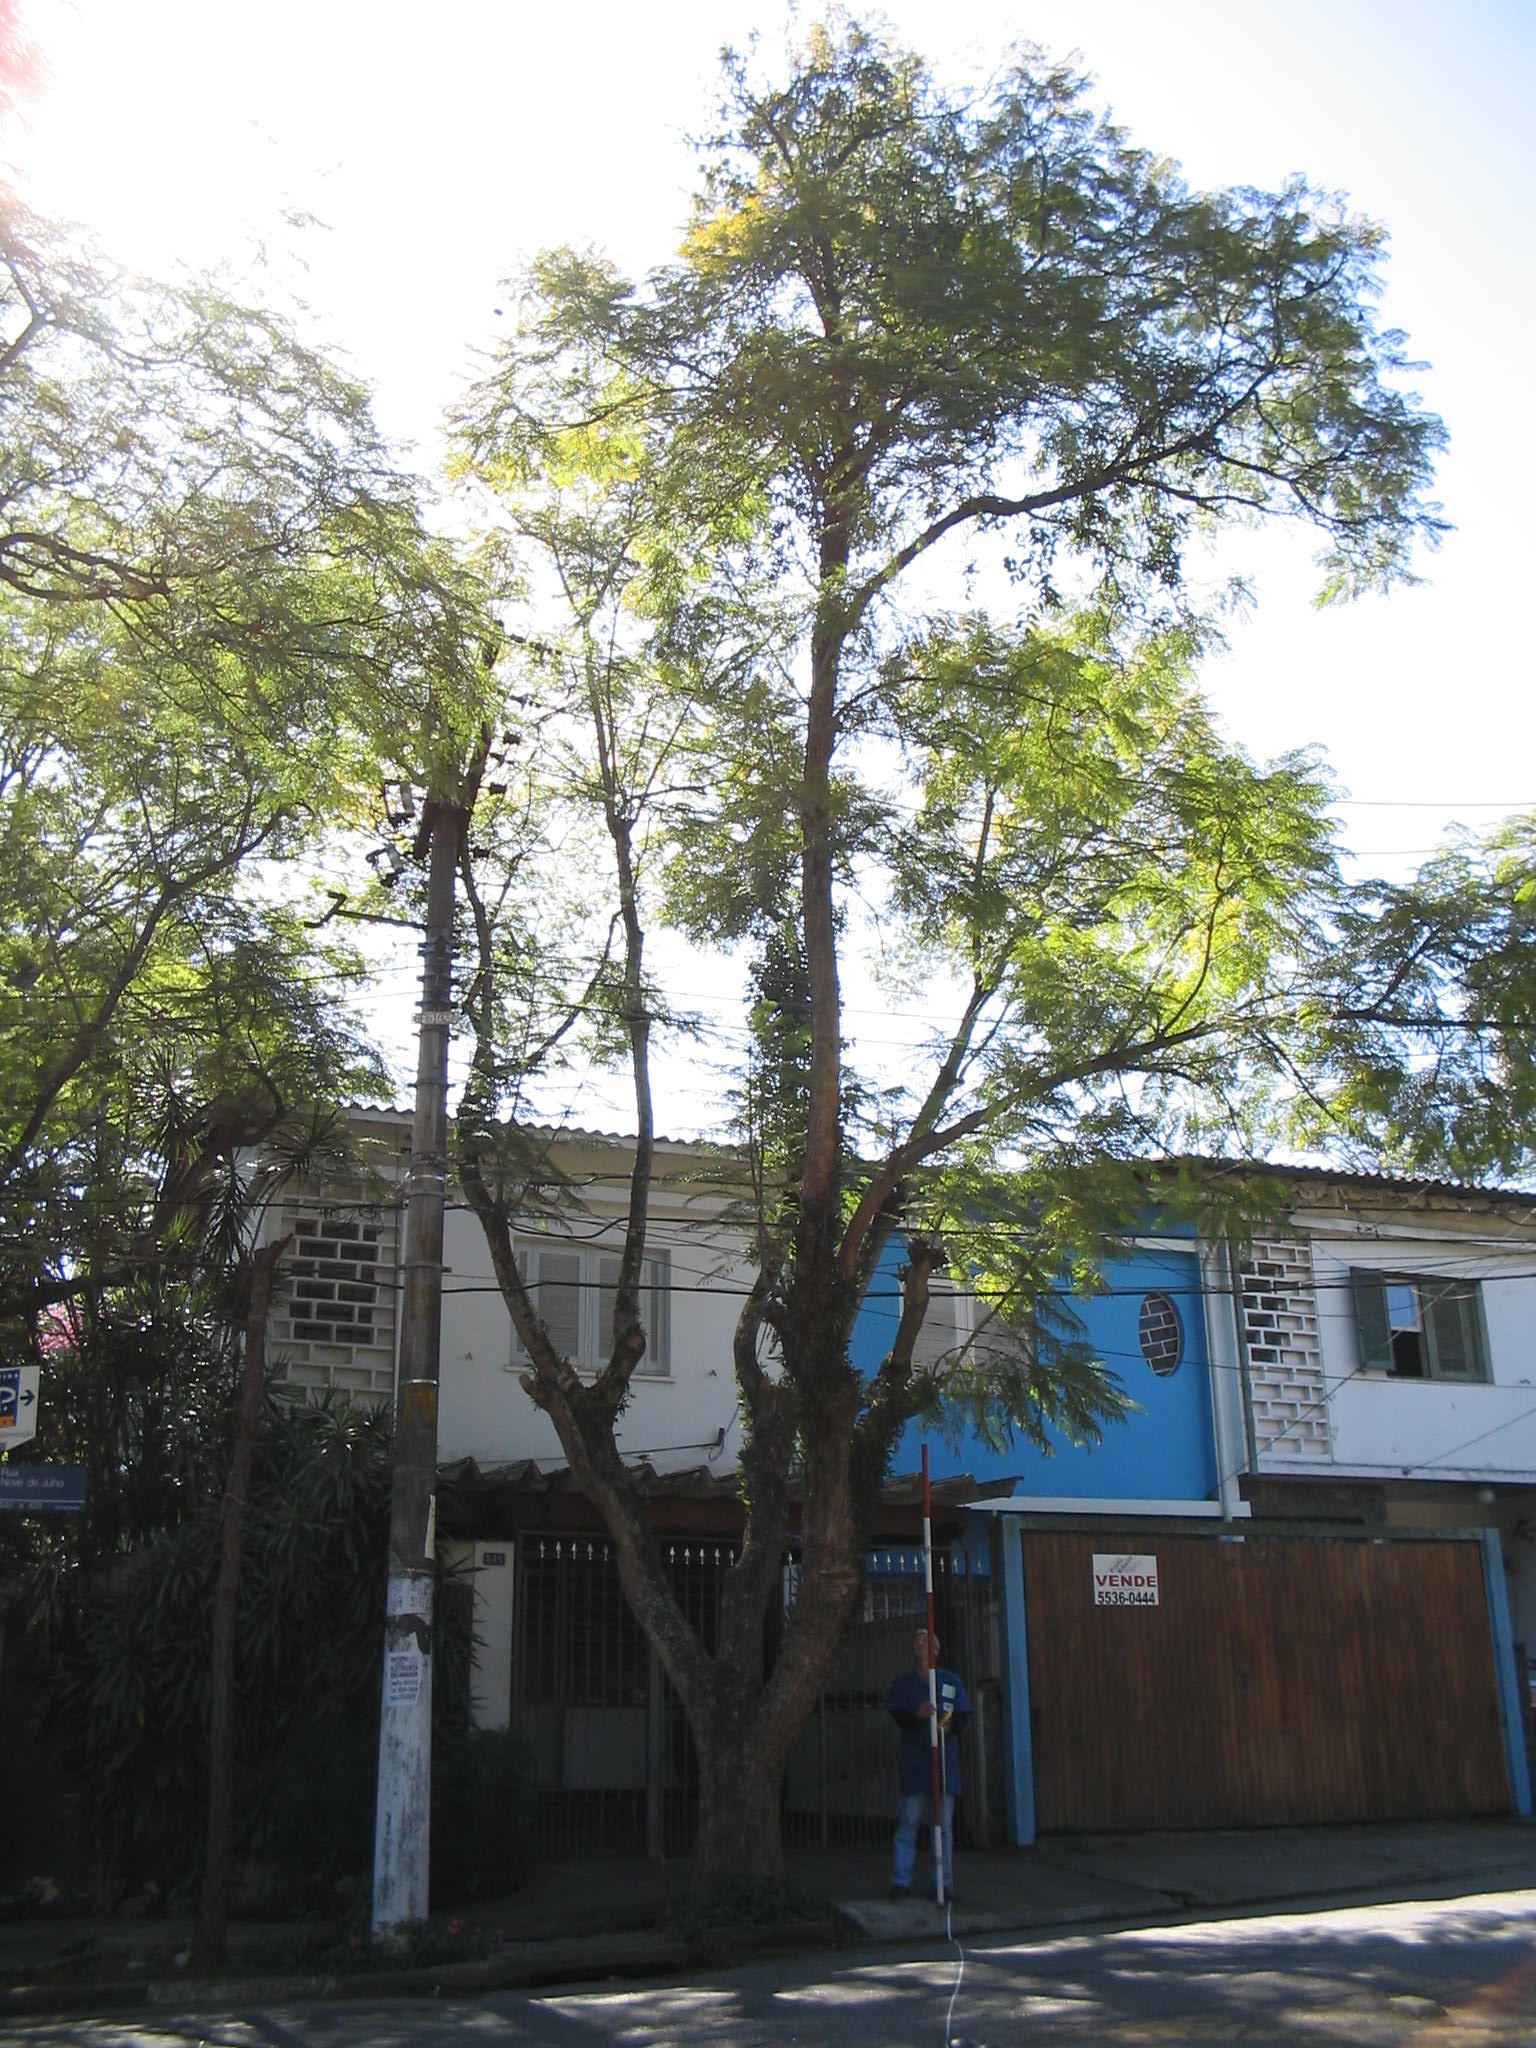crown: (415, 11, 1452, 1340)
stem: (657, 1690, 831, 1921)
stick: (910, 1445, 965, 1904)
tree: (407, 3, 1452, 1921)
